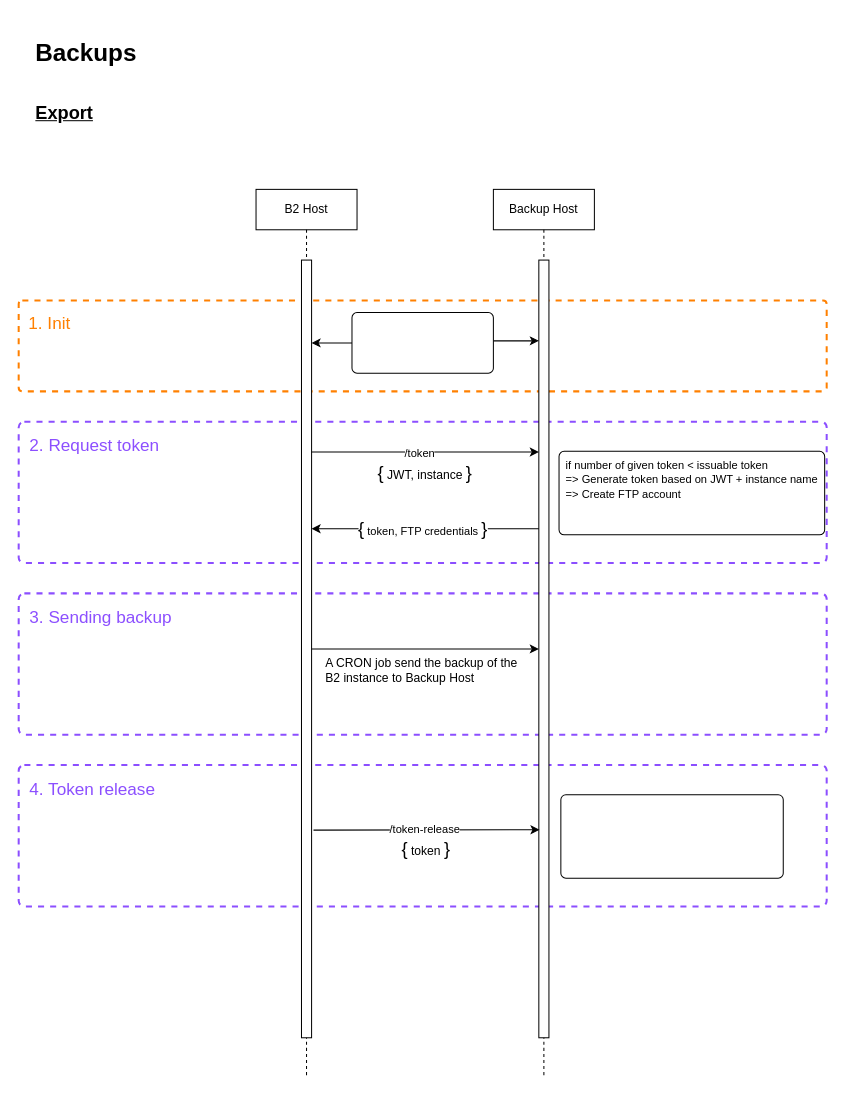
Some shapes in this 844 by 1096 pixel diagram are drawn without their labels. The shapes that lost their labels are listed below. From the top down, each one's centre as x and y in pixels, then its label:
At (x=422, y=342): "ADMIN Host Give JWT token to hosts in /home/status".
At (x=671, y=836): "=> Delete FTP account => Delete token".
